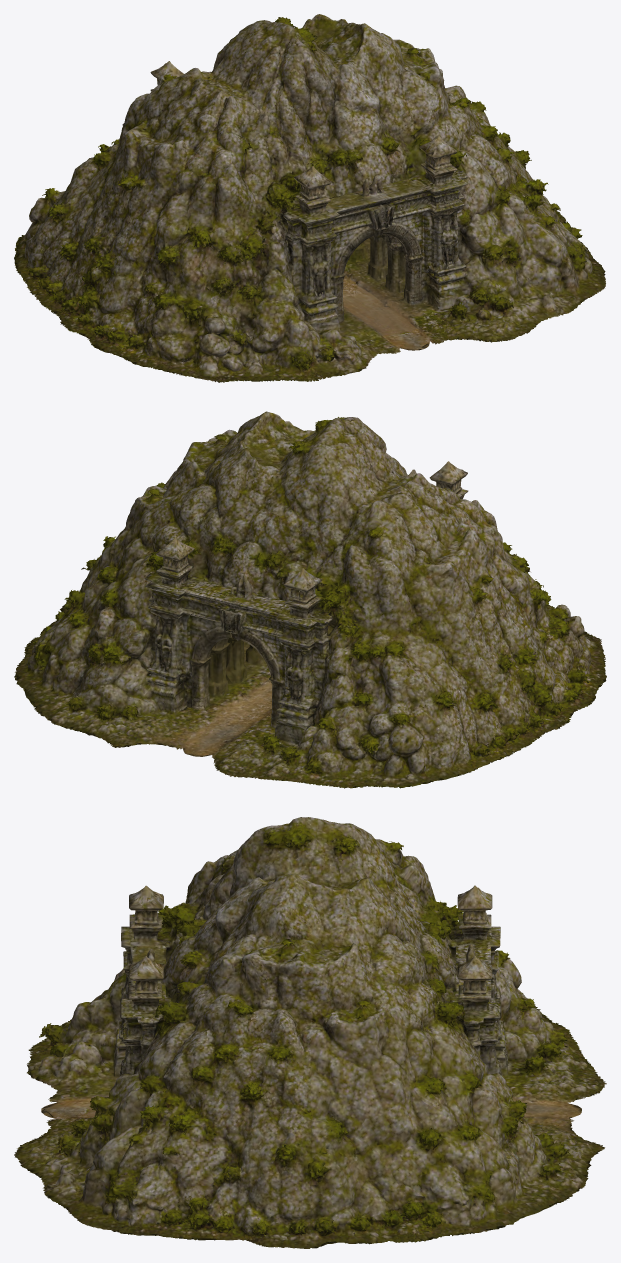
File: mtn_gate.glb
The picture shows the model from 3 angles, top to bottom: view 1: azimuth 30°, elevation 25°; view 2: azimuth 150°, elevation 25°; view 3: azimuth 270°, elevation 25°; orthographic projection. The views are drawn at different scales.
Visible parts, largest first — view 1: mtn_gate; view 2: mtn_gate; view 3: mtn_gate.
Boxes of the visible parts, x1=… form: mtn_gate: x1=14, y1=14, x2=605, y2=382; mtn_gate: x1=14, y1=411, x2=606, y2=788; mtn_gate: x1=14, y1=817, x2=606, y2=1248.
Size of the model in its own units: 189 by 91.47 by 173.
1 material, 1 textured.
